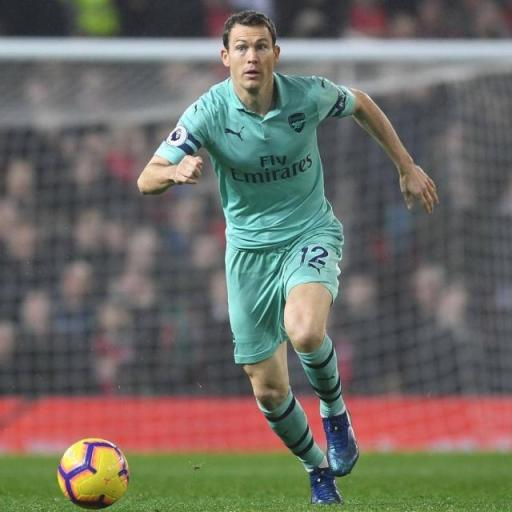Emirates: (231, 152, 317, 186)
